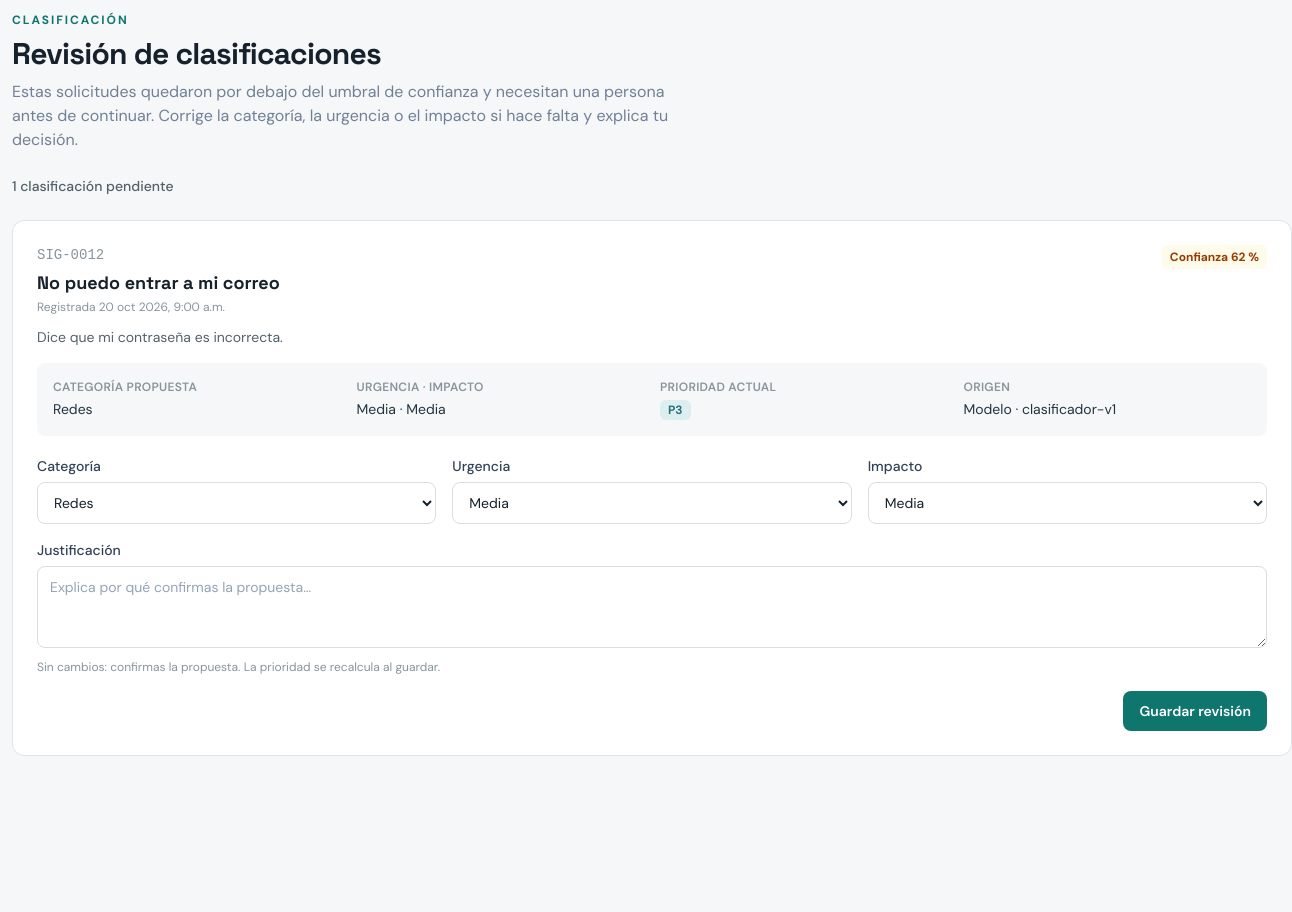
Test case: RevisionPage: revisión de clasificaciones (S4-15, HU-02.2) › muestra el error del servidor y conserva lo escrito
Check: the text "SIG-0012" is shown, box [37, 247, 104, 263]
Step 1. Type "Confirmo la propuesta." into the text box labelled "Justificación" → (652, 607), box [37, 566, 1267, 648]
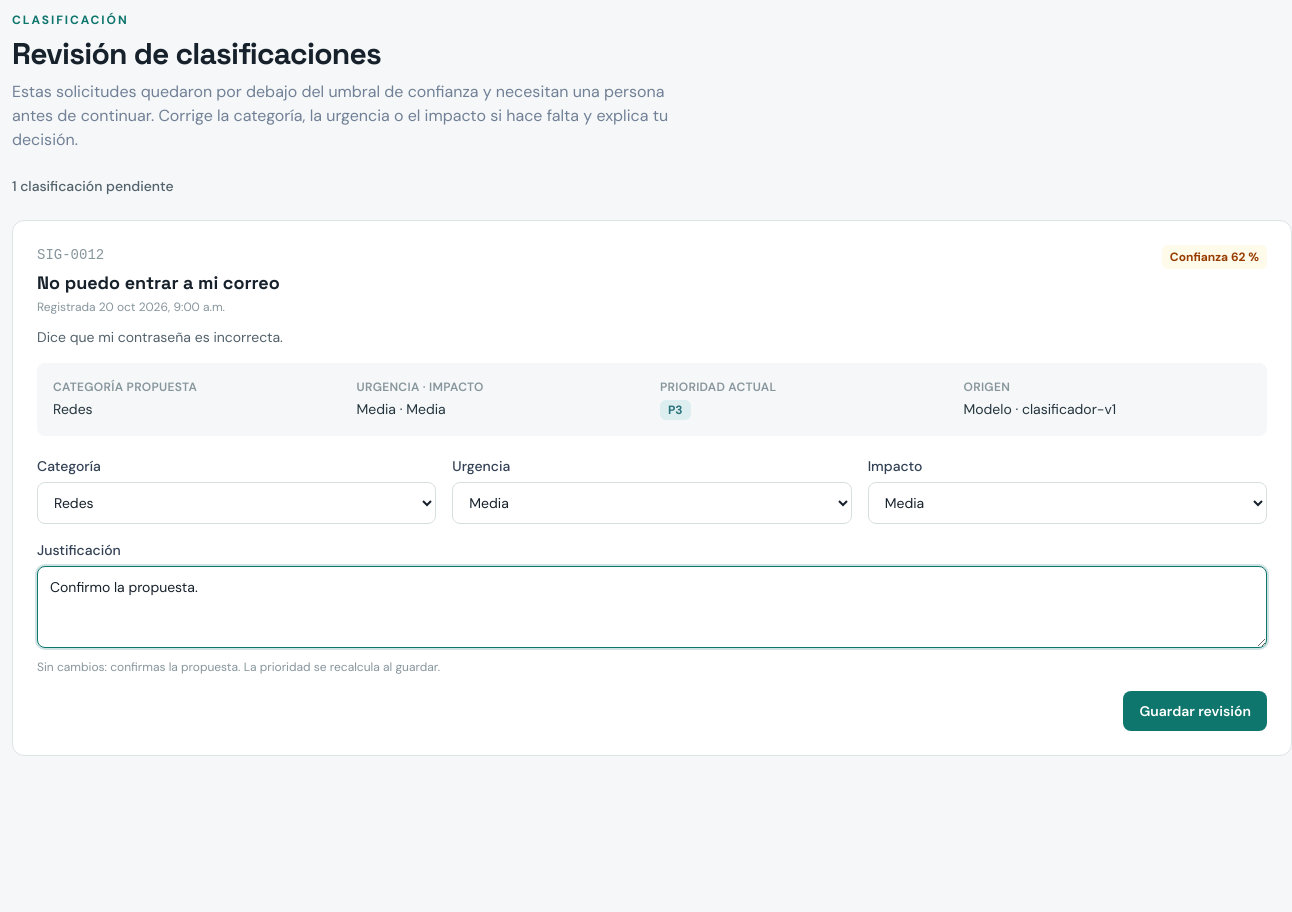
Step 2. Click the button "Guardar revisión" → click(1195, 711), box [1123, 691, 1267, 731]
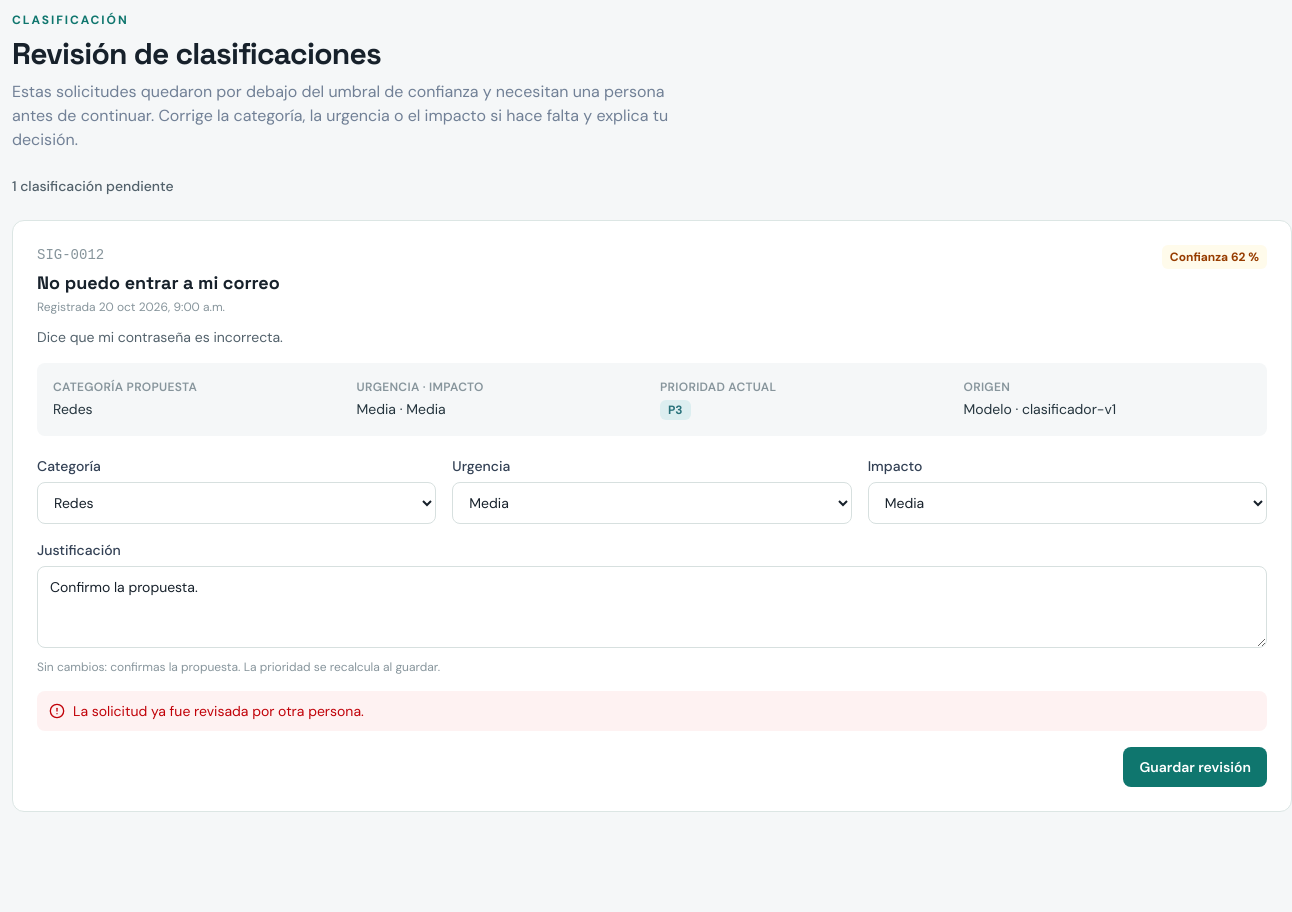
Check: the message reads "La solicitud ya fue revisada por otra persona.", box [73, 702, 364, 720]
